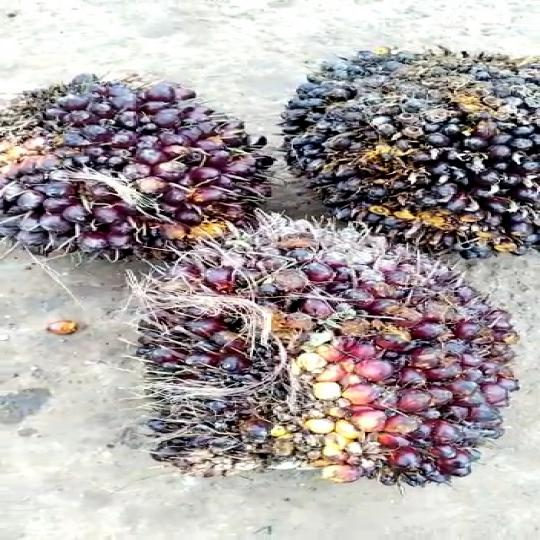kurang masak: (117, 212, 527, 485), (0, 63, 297, 277), (259, 40, 540, 260)
